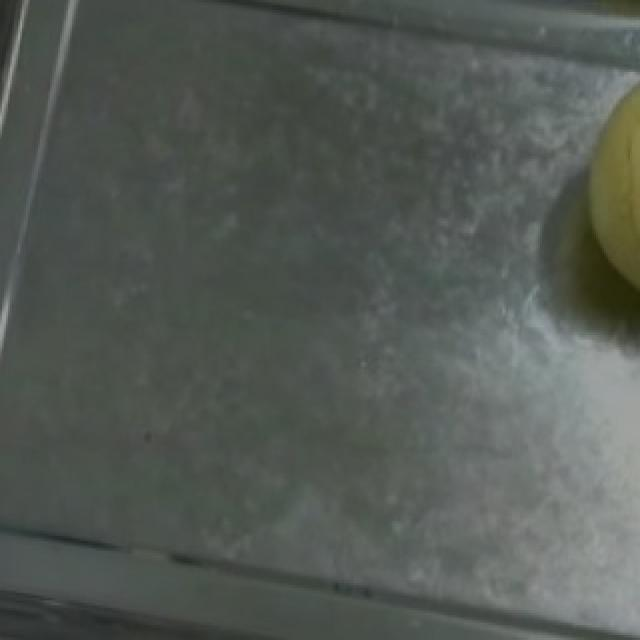Fruit: (562, 57, 640, 318)
